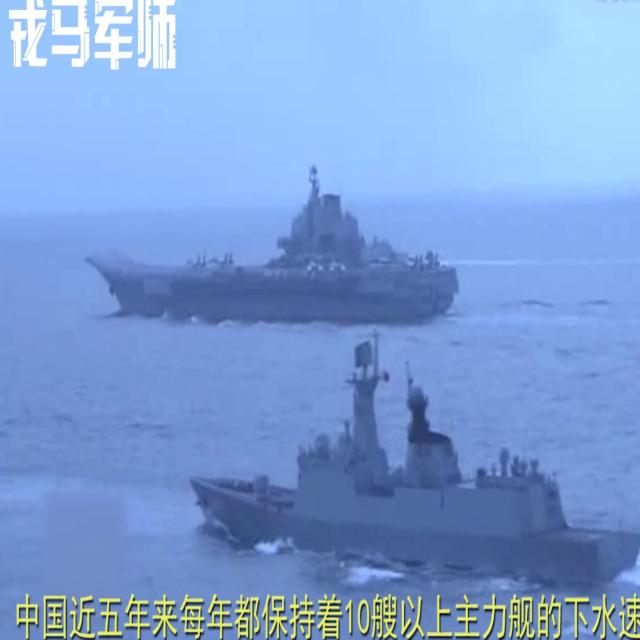houseboat: (192, 330, 640, 590), (84, 178, 458, 324)
